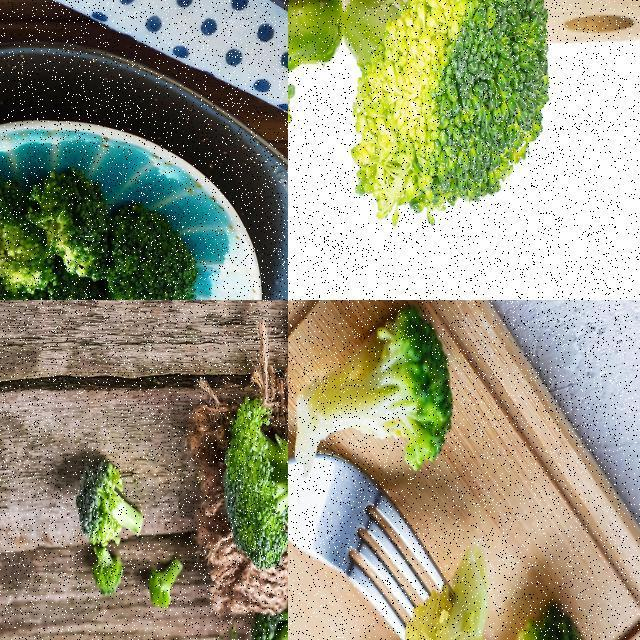broccoli: (341, 0, 553, 229), (288, 302, 459, 489), (215, 386, 287, 576), (398, 549, 512, 639), (102, 199, 200, 299), (0, 163, 67, 295), (72, 448, 144, 546)
